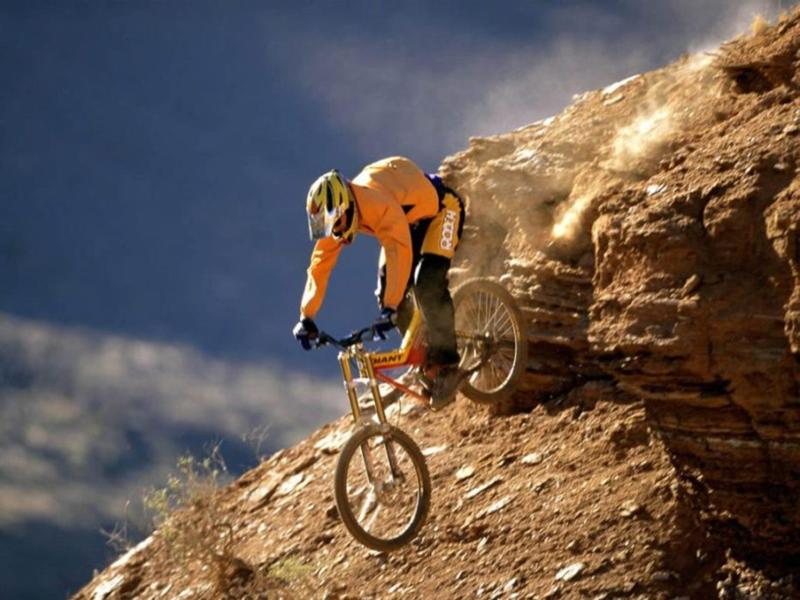person: (291, 154, 473, 416)
